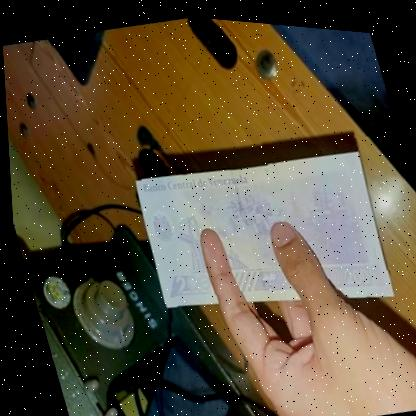two_hundred-back-vef: (123, 124, 399, 342)
